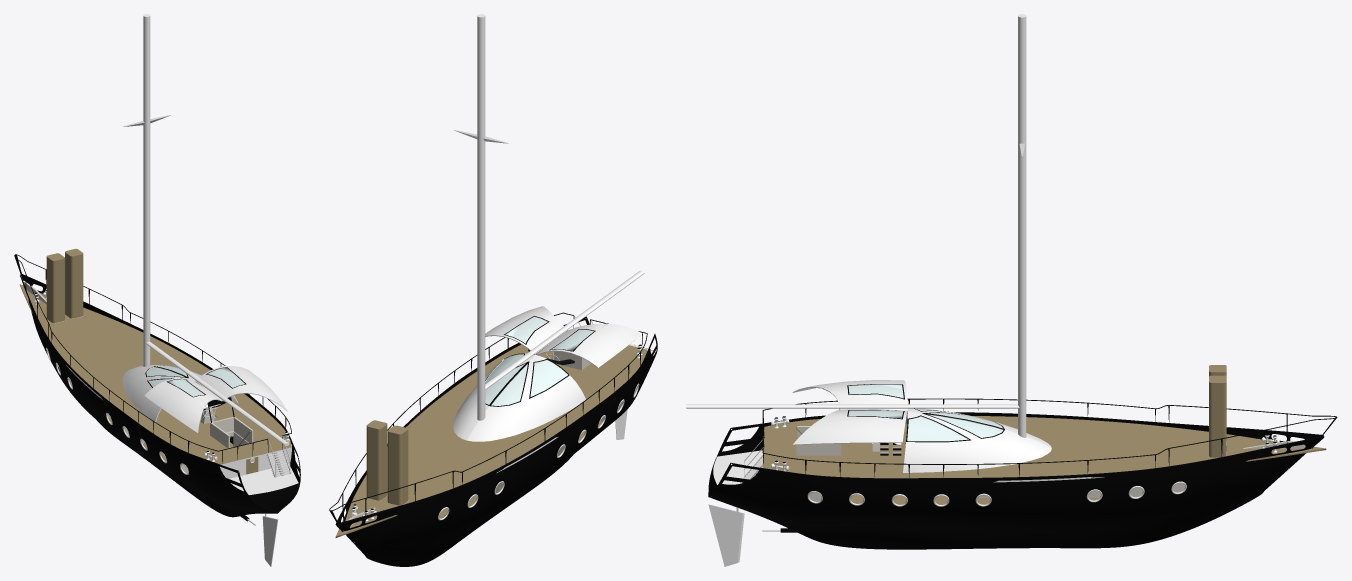
File: Yacht.FBX
The picture shows the model from 3 angles, left to right: view 1: azimuth 30°, elevation 25°; view 2: azimuth 150°, elevation 25°; view 3: azimuth 270°, elevation 25°; orthographic projection. The views are drawn at different scales.
Visible parts, largest first — view 1: WRectangle01, Cylinder05, Cylinder01, Object02, Rupka, Object03, Shape01, Cylinder02, Line01, Rul, Box07, StraightStair02; view 2: WRectangle01, Cylinder05, Rupka, Cylinder01, Object02, Object03, Shape01, Cylinder02; view 3: Cylinder05, WRectangle01, Rupka, Cylinder01, Object03, Shape01, Object02, Cylinder02, Rul, Box07.
Part boxes in pixels (x1,y1,x2,y2): WRectangle01: (19,248,291,465); Cylinder05: (20,274,300,521); Cylinder01: (143,14,150,366); Object02: (144,378,222,432); Rupka: (122,365,238,423); Object03: (195,366,287,411); Shape01: (14,254,291,463); Cylinder02: (145,341,289,445); Line01: (210,417,253,448); Rul: (262,513,278,566); Box07: (23,280,253,473); StraightStair02: (266,435,290,477); WRectangle01: (335,344,647,537); Cylinder05: (335,316,657,566); Rupka: (453,353,585,441); Cylinder01: (477,14,485,420); Object02: (537,323,642,367); Object03: (485,306,567,354); Shape01: (329,312,647,531); Cylinder02: (485,270,644,389); Cylinder05: (708,412,1324,549); WRectangle01: (763,365,1326,482); Rupka: (903,408,1051,472); Cylinder01: (1018,14,1026,437); Object03: (792,409,907,444); Shape01: (762,398,1337,477); Object02: (792,380,907,410); Cylinder02: (686,404,1019,408); Rul: (708,504,744,566); Box07: (809,441,1311,504).
Size of the model in its own units: 370 by 1442 by 1544.
